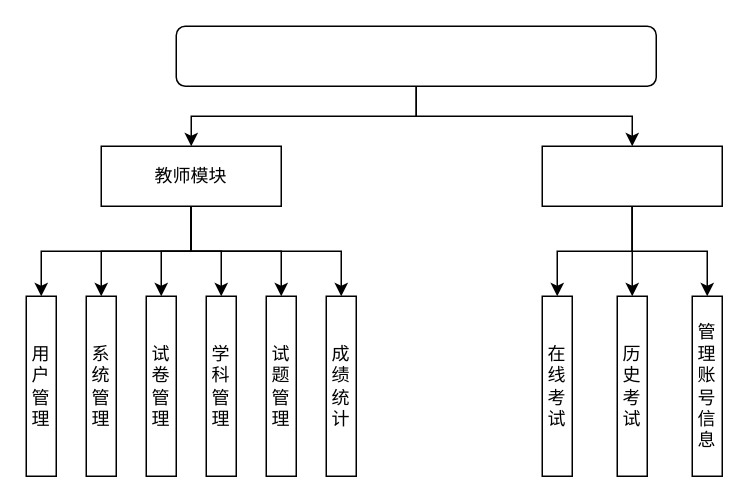
Some shapes in this 749 by 503 pixel diagram are drawn without their labels. The box of each missing label's shape, as (x1, y1, x2, y2) in pixels:
基于Java的在线考试系统: (175, 25, 656, 86)
学生模块: (541, 145, 722, 206)
